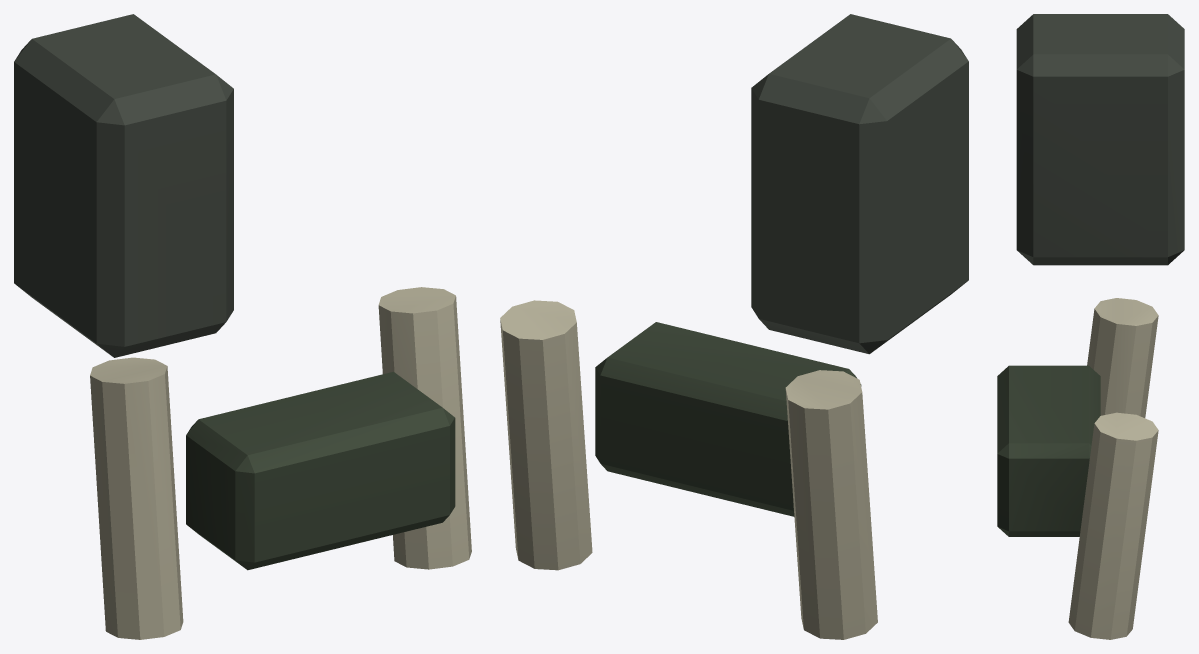
Rendered from leg_fast_left.glb.
3 renders of one model, left to right at view 1: azimuth 30°, elevation 25°; view 2: azimuth 150°, elevation 25°; view 3: azimuth 270°, elevation 25°, orthographic. The views are drawn at different scales.
Parts seen in each view (by area): view 1: March_pump, Drive_manifold, High_flow_leg_ram, High_flow_leg_ram.001; view 2: March_pump, Drive_manifold, High_flow_leg_ram.001, High_flow_leg_ram; view 3: March_pump, Drive_manifold, High_flow_leg_ram.001, High_flow_leg_ram.
Boxes of the visible parts, x1=… form: March_pump: x1=14, y1=14, x2=233, y2=357; Drive_manifold: x1=186, y1=371, x2=455, y2=570; High_flow_leg_ram: x1=90, y1=357, x2=183, y2=639; High_flow_leg_ram.001: x1=378, y1=287, x2=471, y2=569; March_pump: x1=751, y1=14, x2=968, y2=354; Drive_manifold: x1=595, y1=322, x2=861, y2=516; High_flow_leg_ram.001: x1=500, y1=300, x2=592, y2=570; High_flow_leg_ram: x1=785, y1=370, x2=877, y2=639; March_pump: x1=1016, y1=14, x2=1184, y2=265; Drive_manifold: x1=997, y1=365, x2=1100, y2=536; High_flow_leg_ram.001: x1=1068, y1=412, x2=1158, y2=639; High_flow_leg_ram: x1=1087, y1=298, x2=1158, y2=417.
Size of the model in its own units: 0.2988 by 0.4029 by 0.145.
